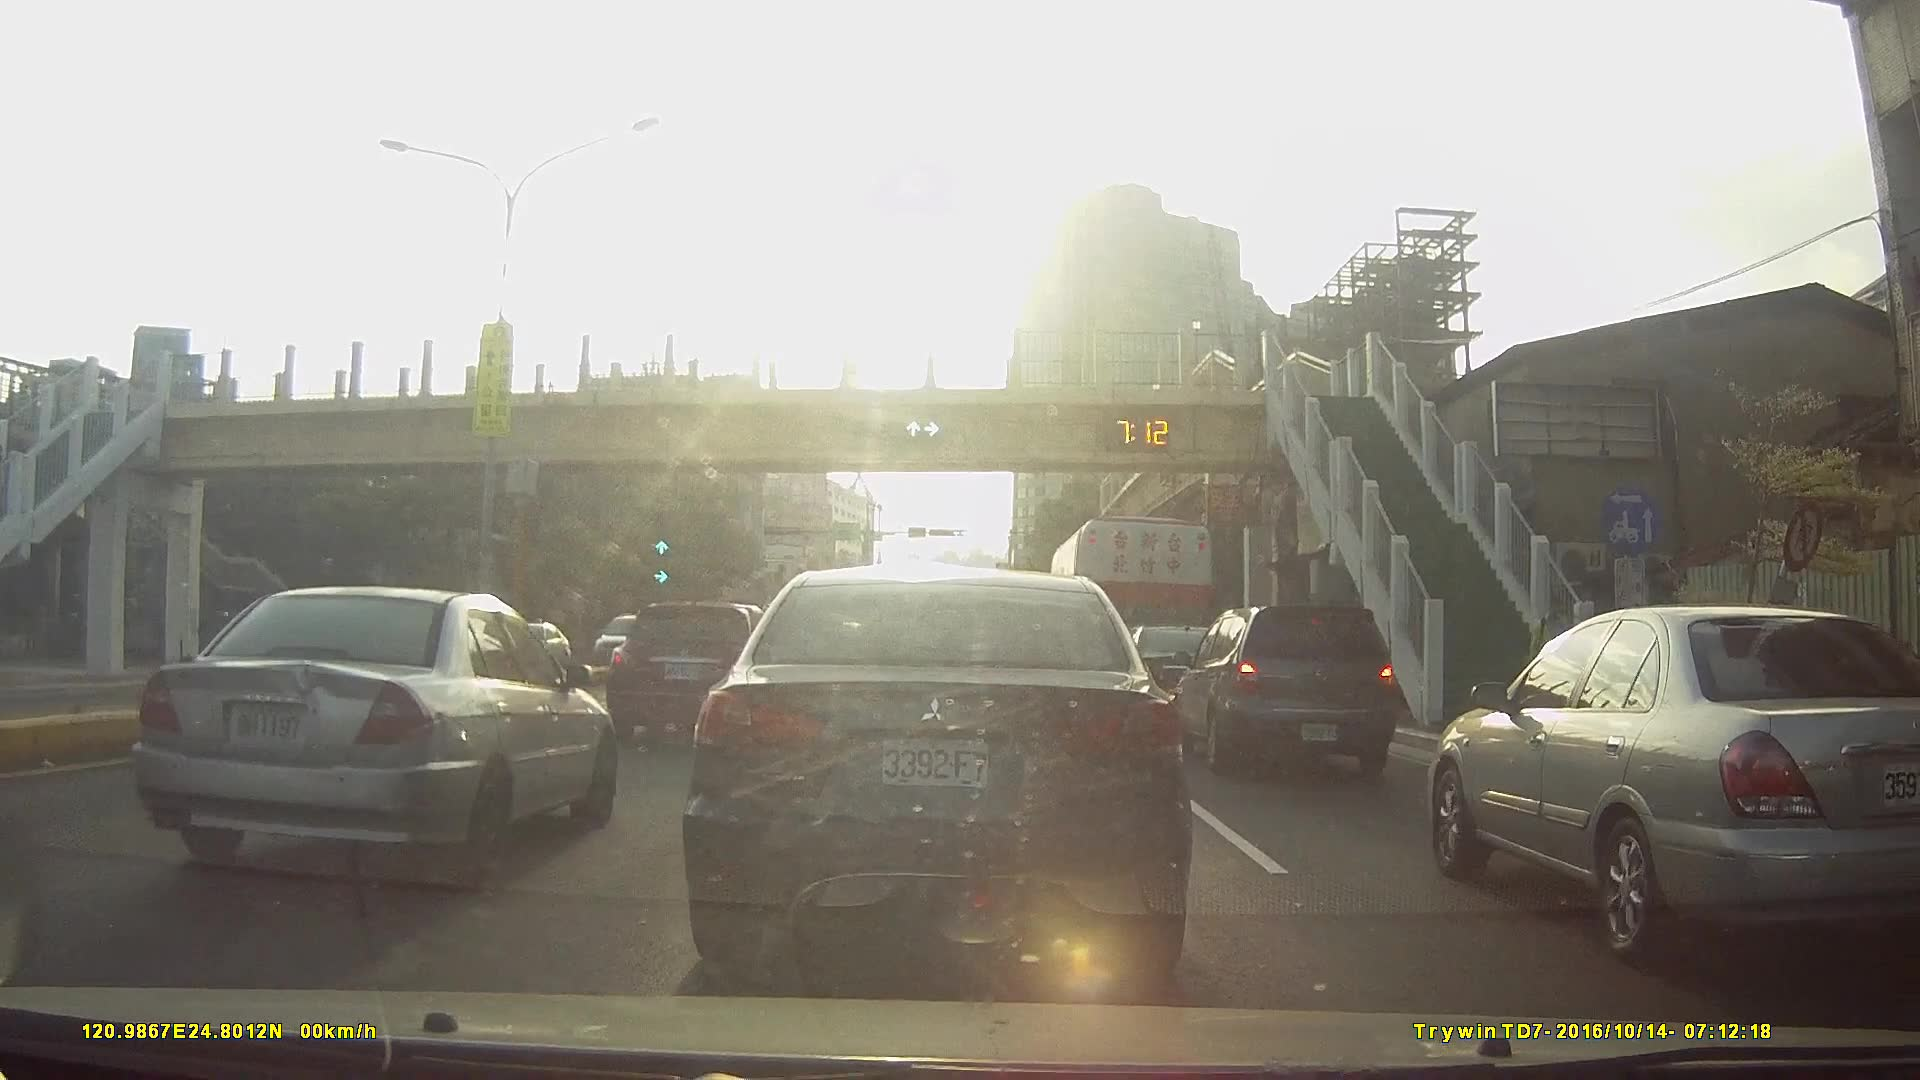pedestrian: (1536, 606, 1584, 726)
vehicle: (683, 566, 1190, 986), (1426, 601, 1920, 961), (155, 584, 625, 865), (1169, 605, 1412, 778), (605, 604, 785, 743), (1098, 615, 1243, 732), (584, 612, 665, 670), (493, 620, 573, 671)
